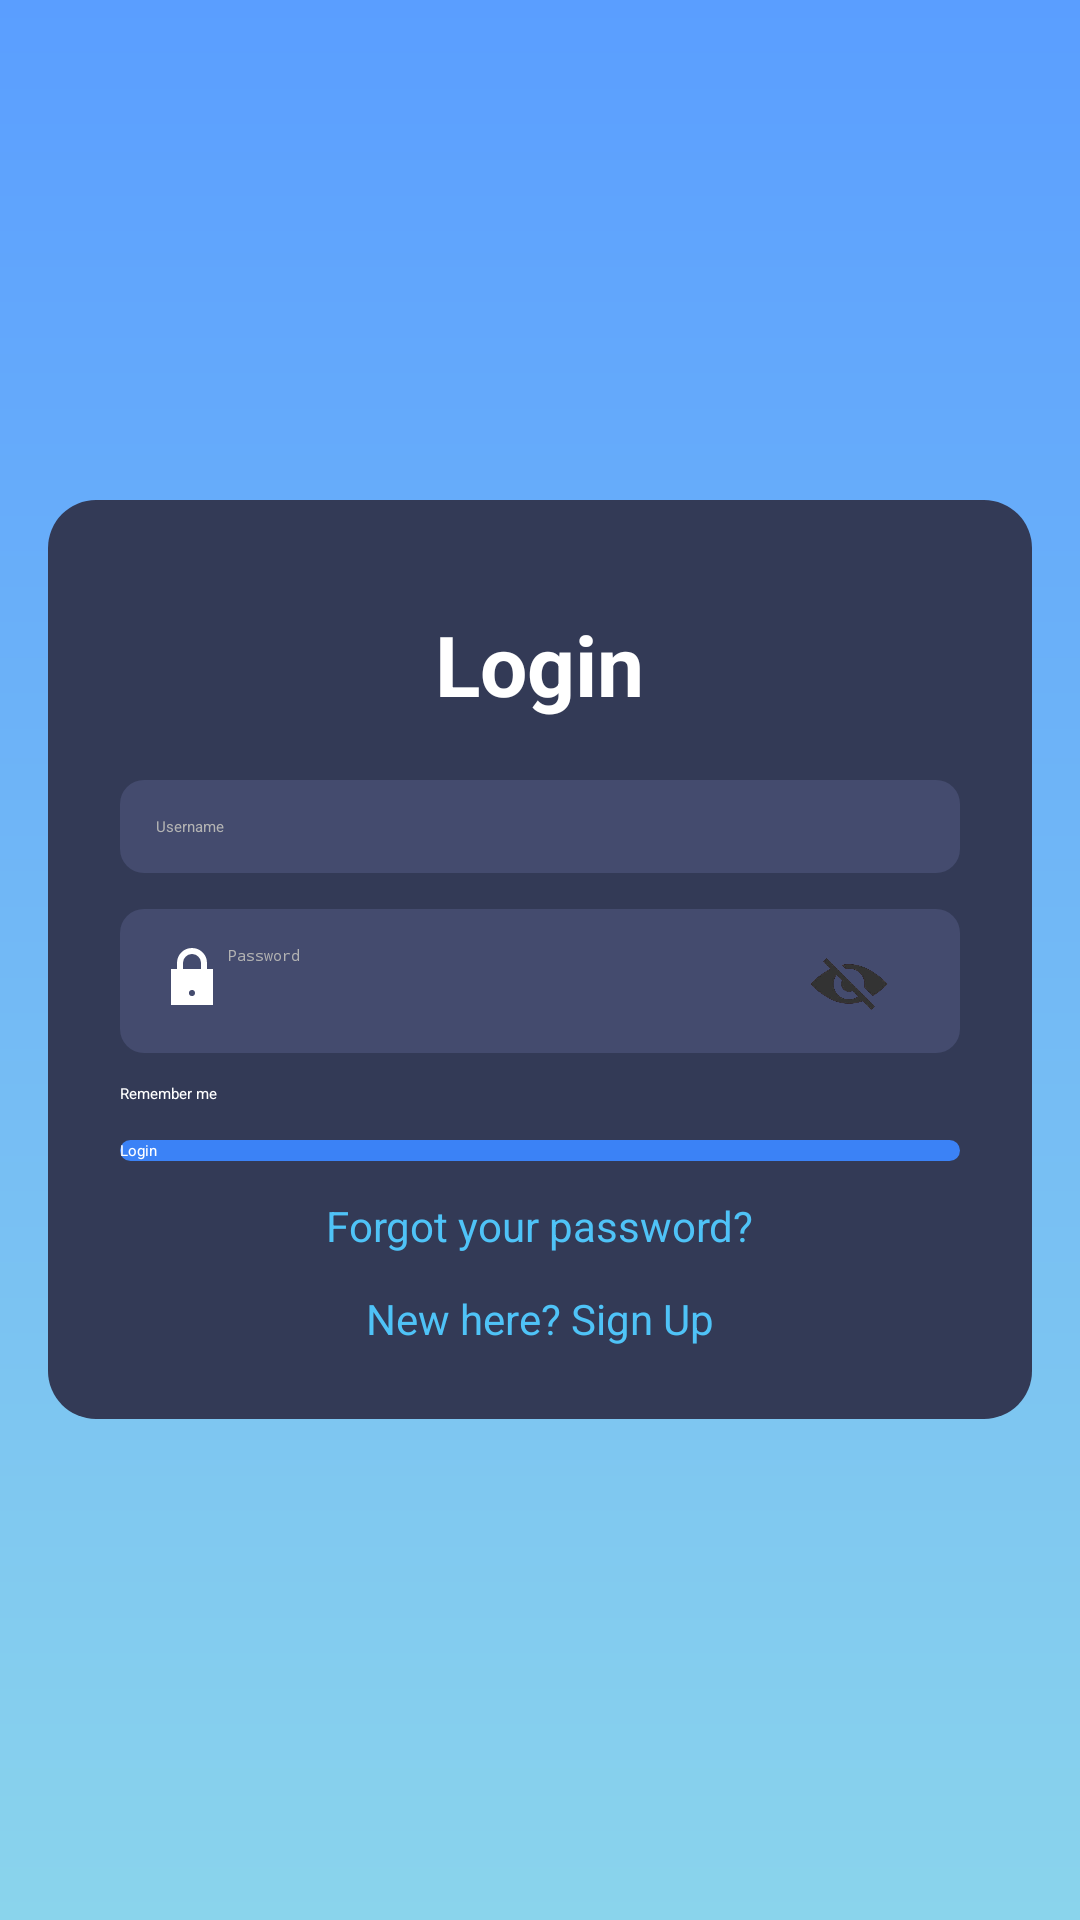

Icon click points for this 1080 x 1920 phone screenshot, format [x,y]:
eye: [849,984]
